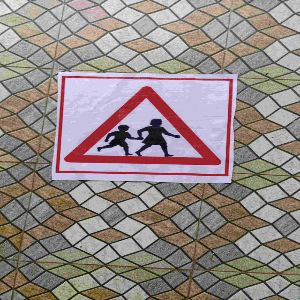schools: (61, 80, 228, 174)
